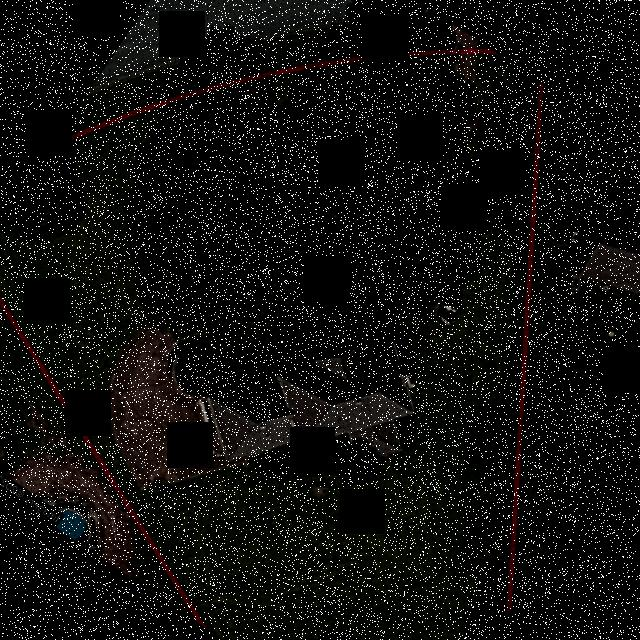Driveway: (108, 328, 214, 489)
House: (193, 345, 414, 465)
